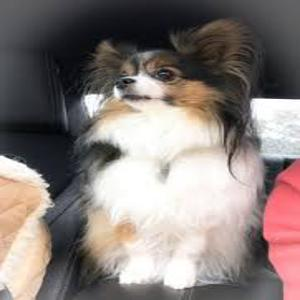yell: (77, 18, 264, 289)
